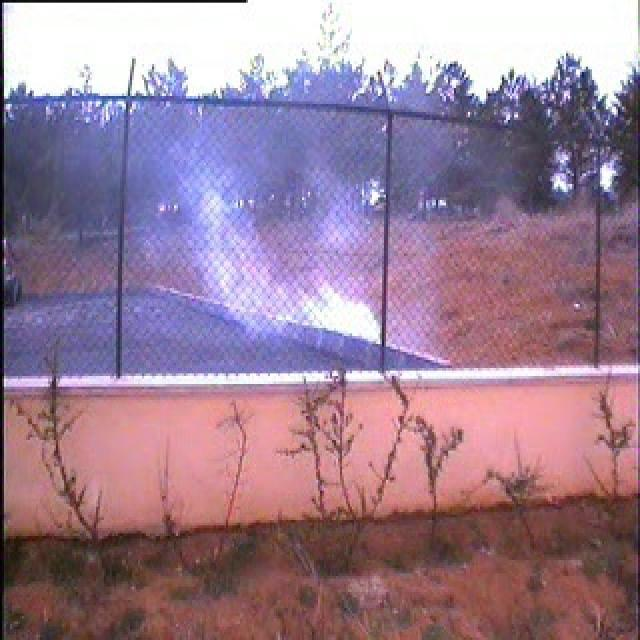Smoke: (11, 52, 452, 368)
